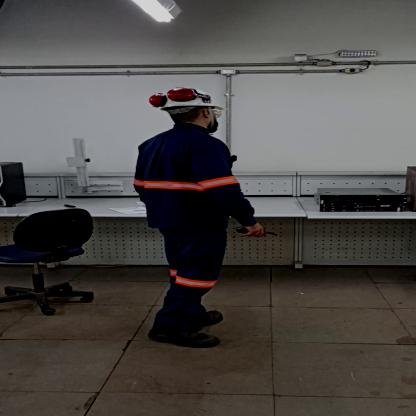Capacete: (146, 85, 219, 109)
